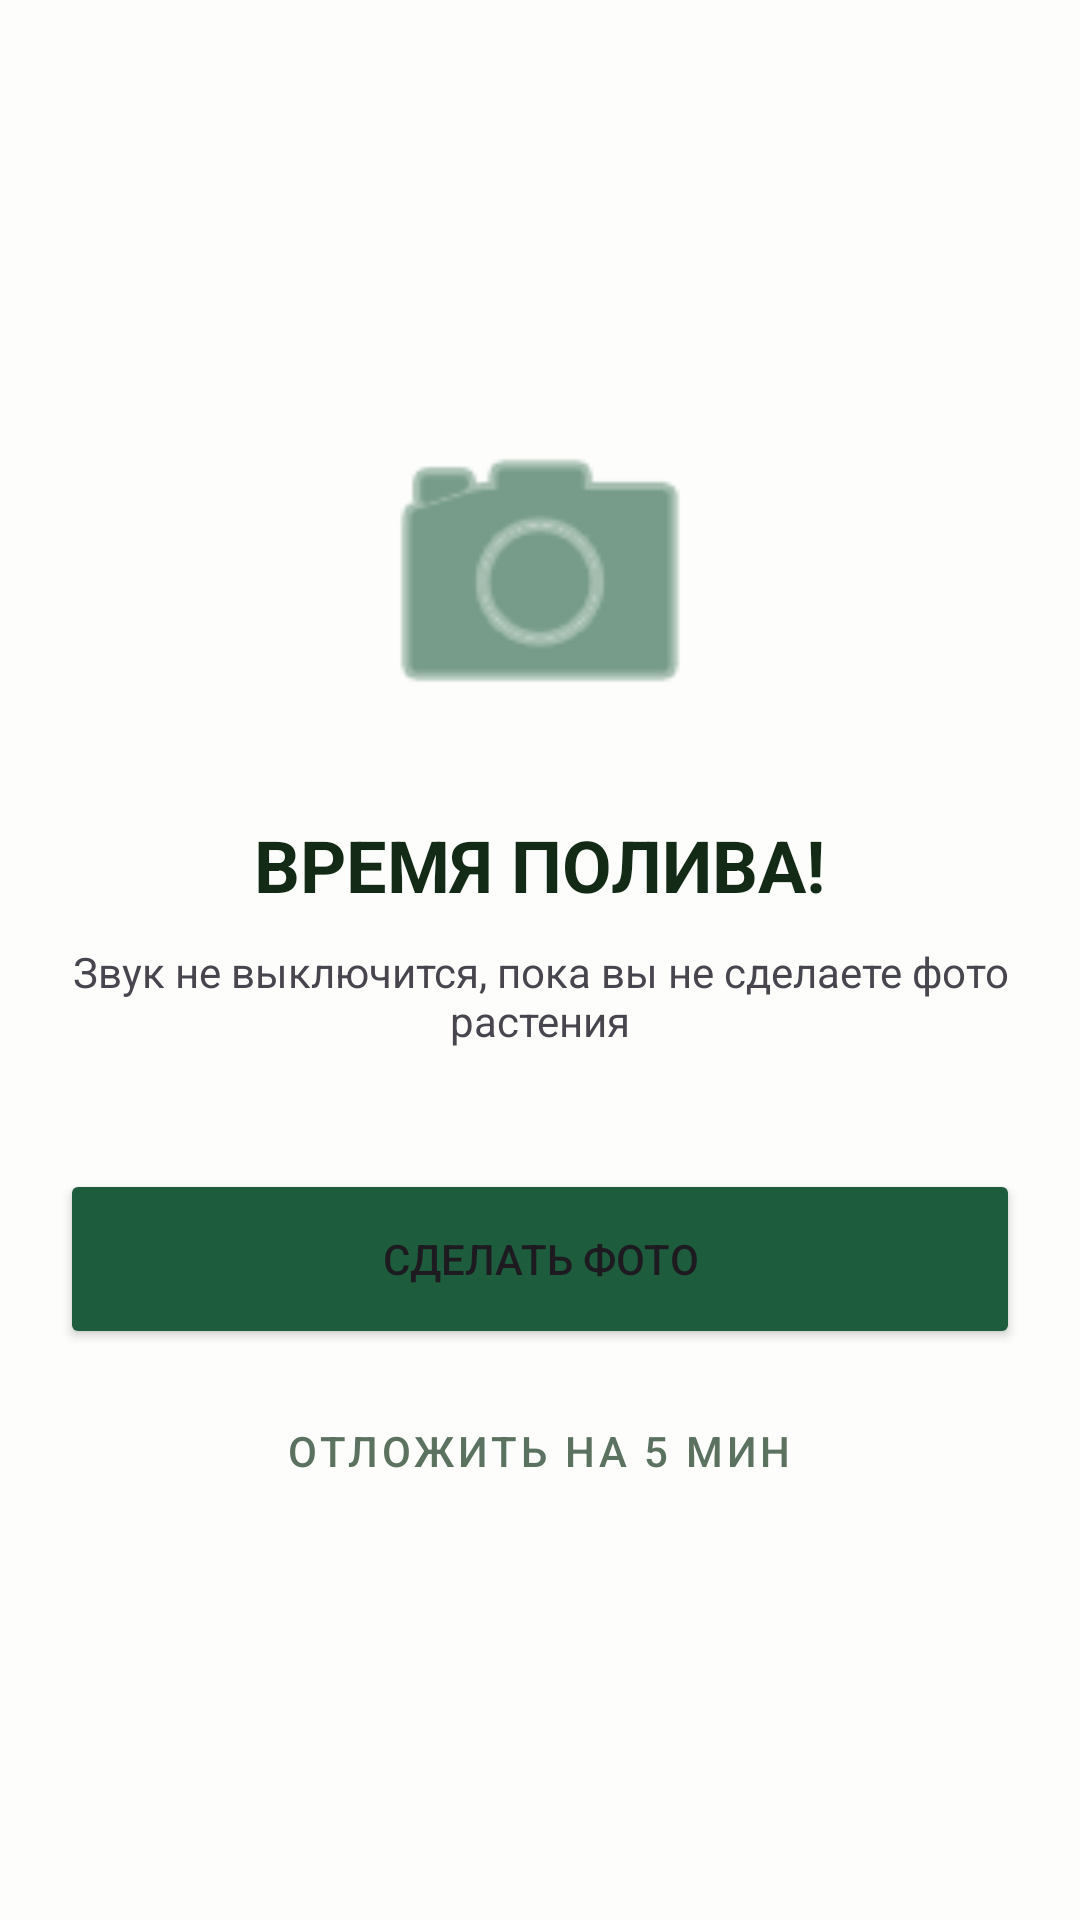

Locate icon controls on the screen. Image size 1080px×1920px, boxes as (x1, y1, x2, y2).
camera: (401, 459, 679, 681)
